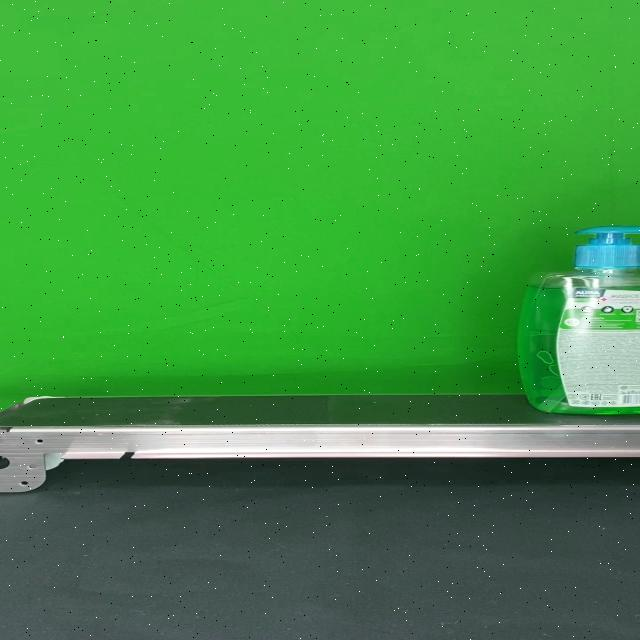Bottle: (516, 225, 640, 414)
Cap: (573, 225, 640, 269)
